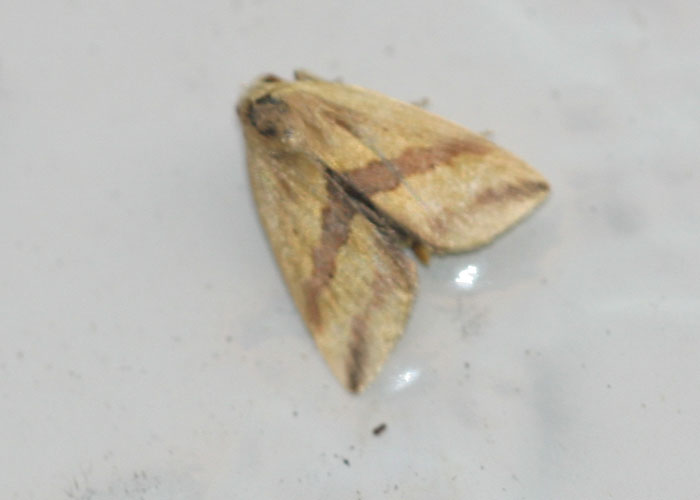Noctuidae: (236, 69, 552, 401)
